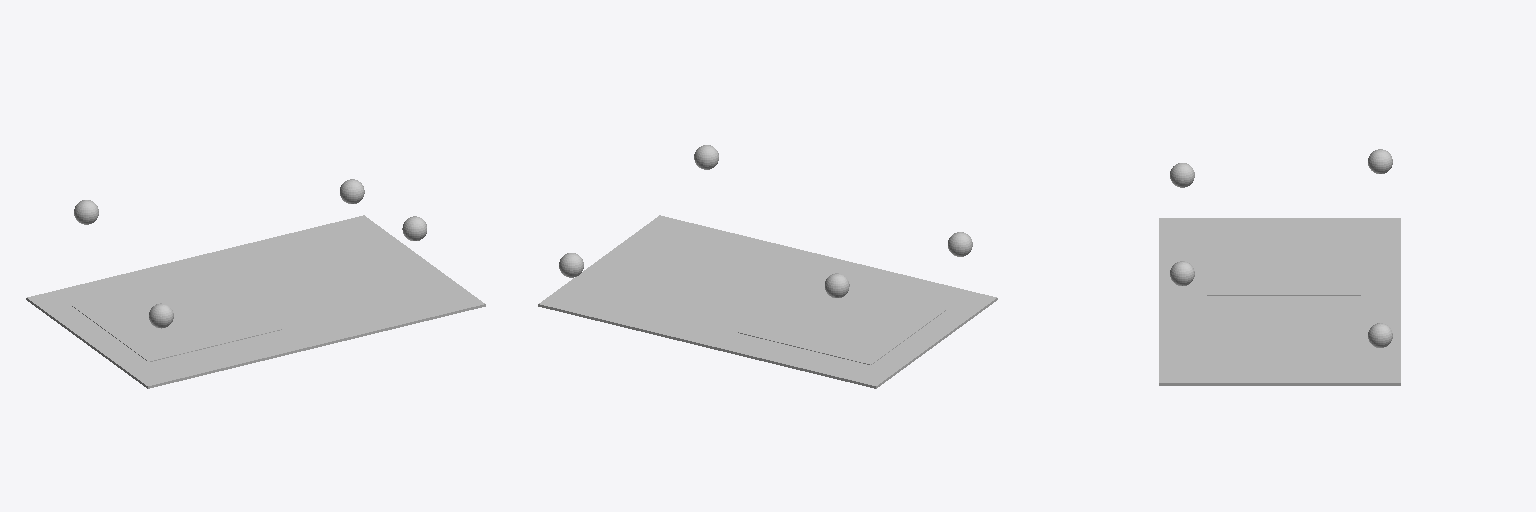
File: Big Marker.obj
3 renders of one model, left to right at view 1: azimuth 30°, elevation 25°; view 2: azimuth 150°, elevation 25°; view 3: azimuth 270°, elevation 25°, orthographic.
Visible parts, largest first — view 1: Cube.001_Cube.002, Cube_Cube.001; view 2: Cube.001_Cube.002, Cube_Cube.001; view 3: Cube.001_Cube.002, Cube_Cube.001.
Boxes of the visible parts, x1,y1,x2,y2 form: Cube.001_Cube.002: [26, 215, 485, 388]; Cube_Cube.001: [72, 273, 281, 361]; Cube.001_Cube.002: [538, 215, 997, 388]; Cube_Cube.001: [738, 276, 946, 364]; Cube.001_Cube.002: [1159, 218, 1400, 385]; Cube_Cube.001: [1207, 230, 1360, 295].
Size of the model in its own units: 27.97 by 7.5 by 17.4.